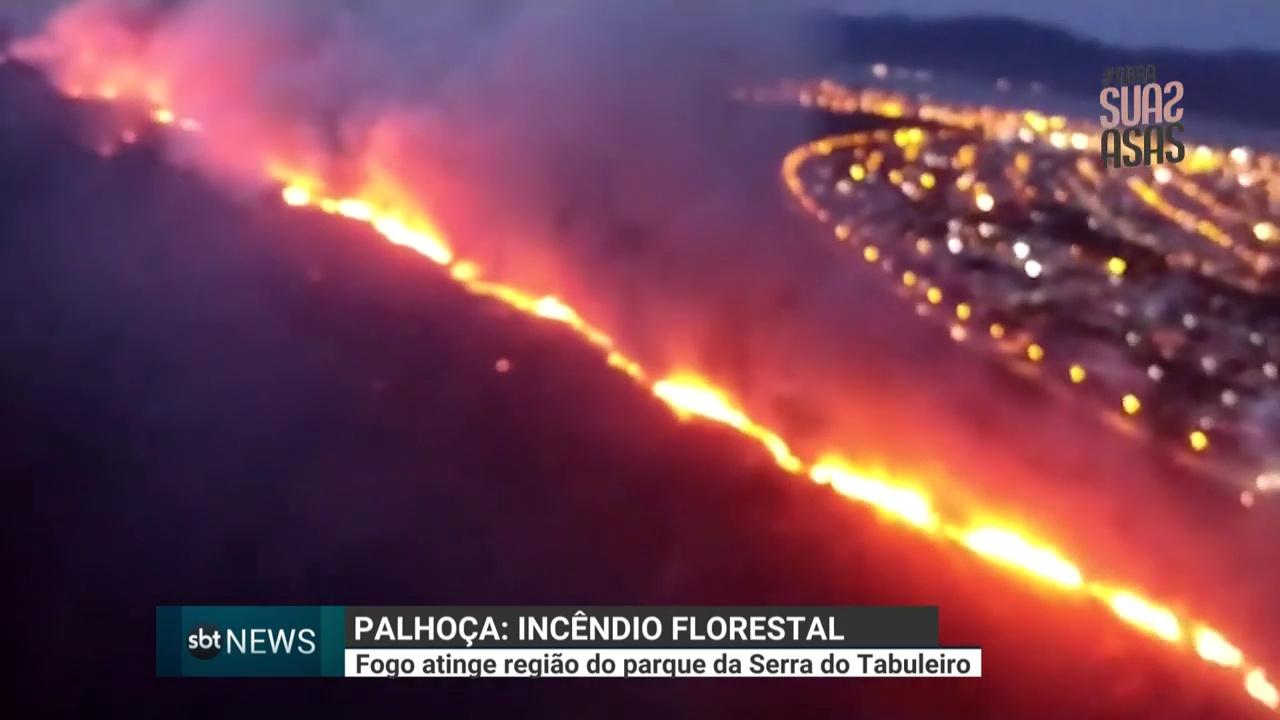fire: (278, 170, 1274, 704)
